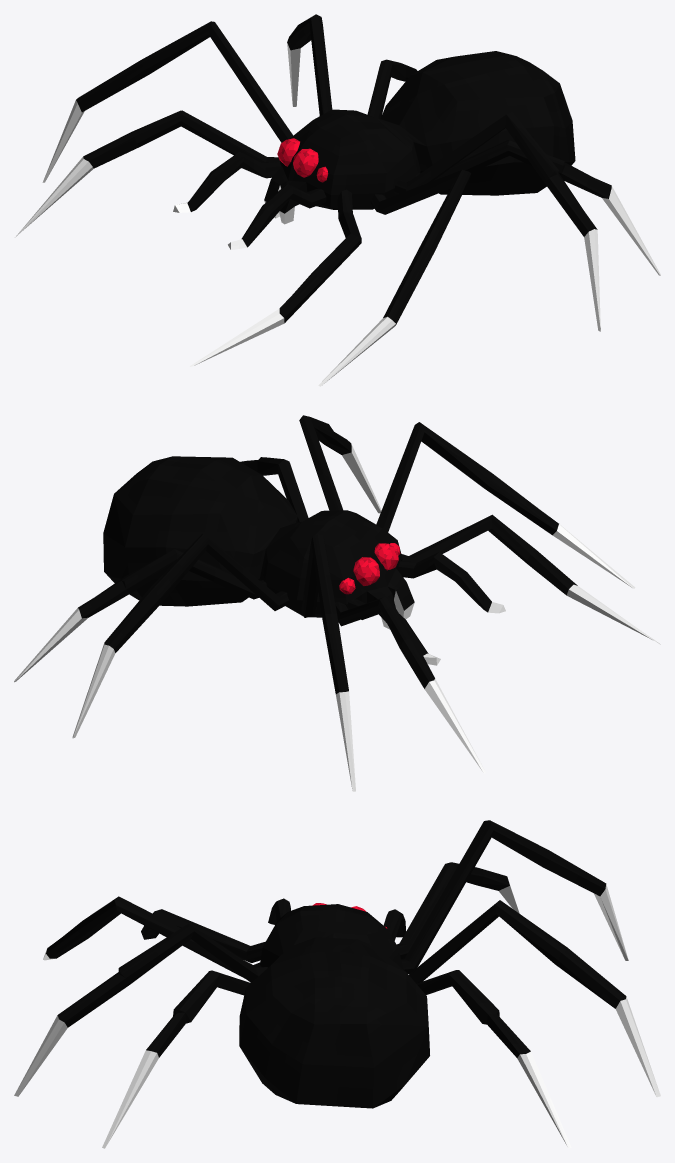
File: spiderIdle10.obj
The picture shows the model from 3 angles, top to bottom: view 1: azimuth 30°, elevation 25°; view 2: azimuth 150°, elevation 25°; view 3: azimuth 270°, elevation 25°; orthographic projection. The views are drawn at different scales.
Parts seen in each view (by area): view 1: Cube.003_Cube.004; view 2: Cube.003_Cube.004; view 3: Cube.003_Cube.004.
Boxes of the visible parts, x1,y1,x2,y2 form: Cube.003_Cube.004: (15,14,660,386); Cube.003_Cube.004: (14,415,660,791); Cube.003_Cube.004: (14,820,660,1148).
Size of the model in its own units: 29.34 by 11.35 by 34.53.
